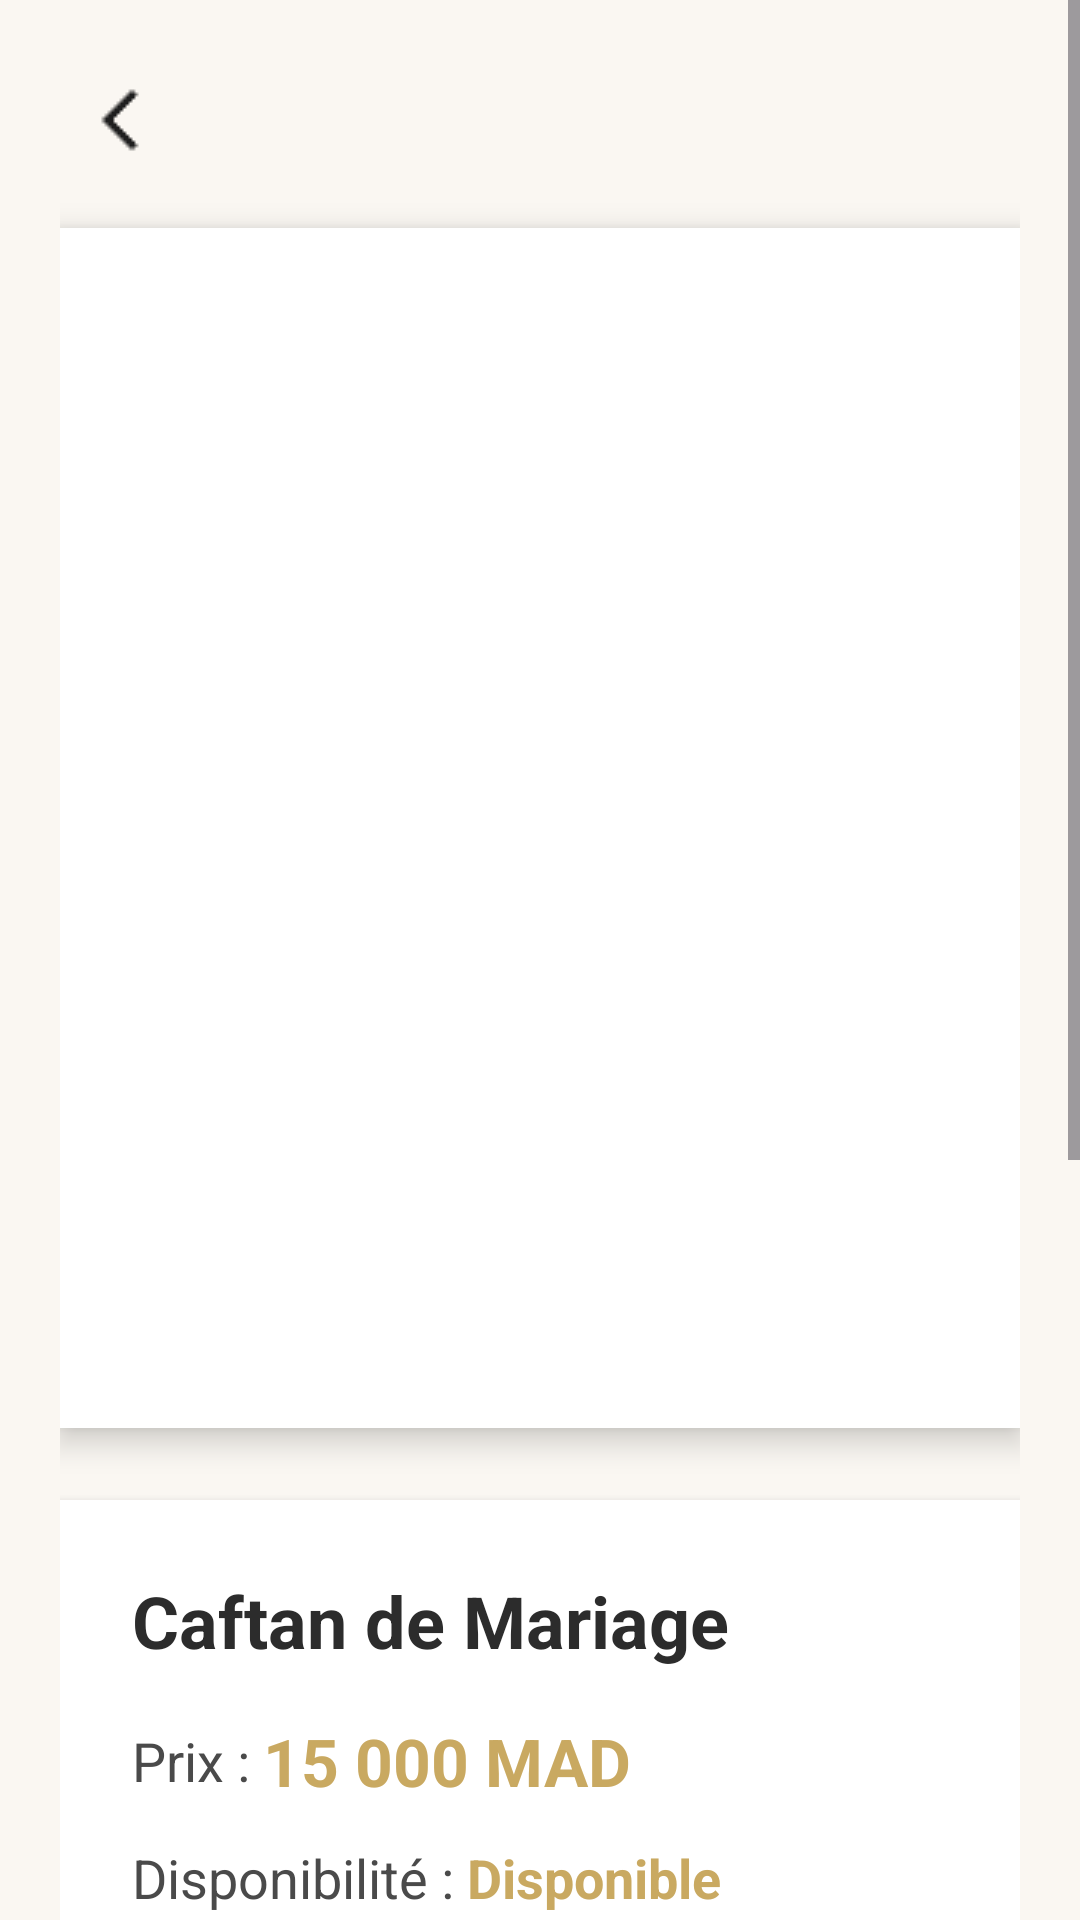

Icon bounding boxes for this 1080px x 1920px phone screenshot, format (x1, y1, x2, y2):
Retour: (101, 89, 139, 151)
